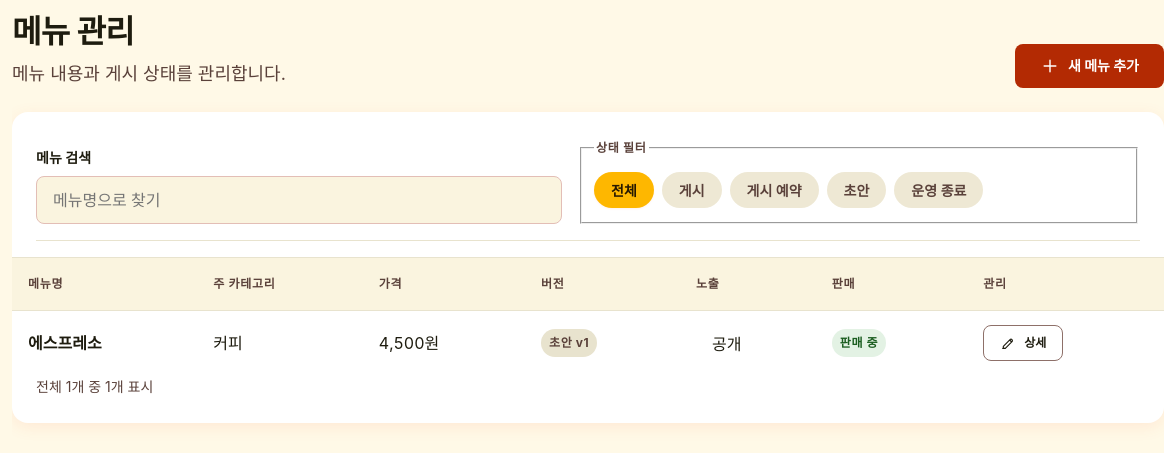
메뉴 목록 화면 › 검색 결과가 비면 목록이 비었을 때와 구분해 안내한다
The width and height of the screenshot is (1164, 453).
Expected: the column heading "에스프레소" is shown, [12,311,197,375]
Type "없는메뉴" into the search field labelled "메뉴 검색" at (299, 200), box [36,176,562,224]
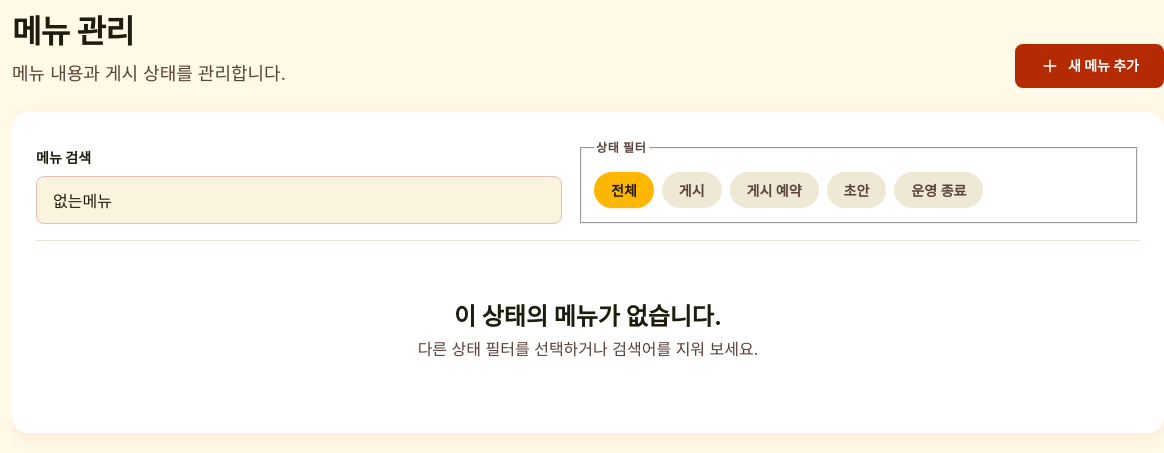
Now the text "이 상태의 메뉴가 없습니다." is shown, box [454,305,722,329]
